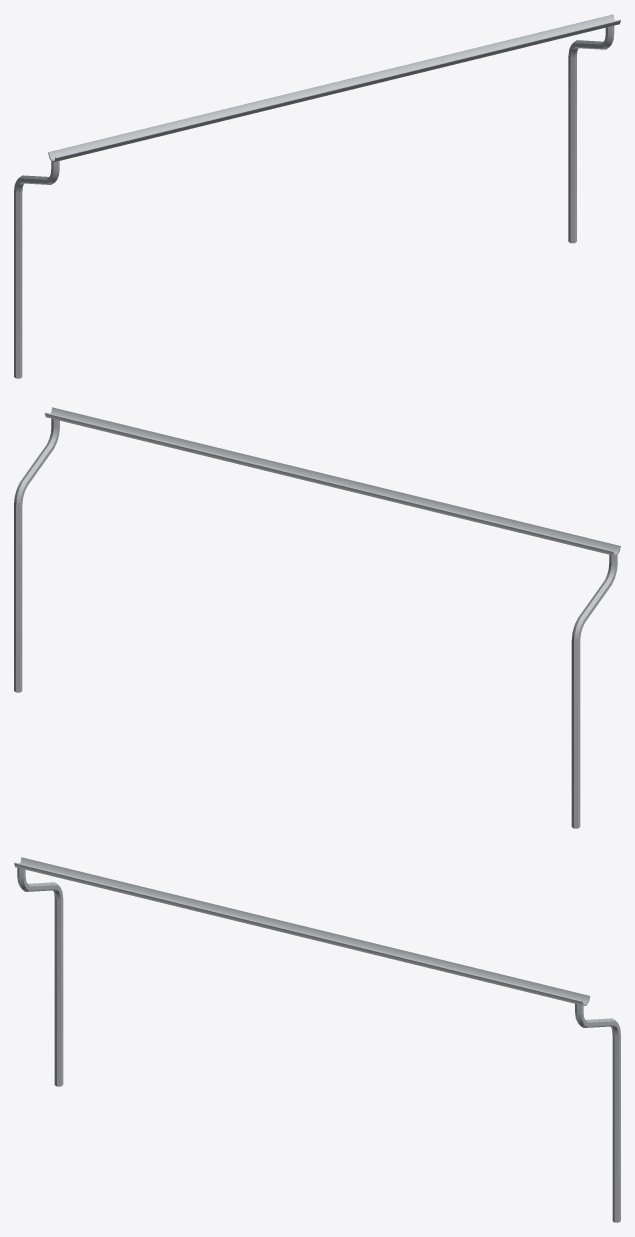
File: SM_waterdrainage_pipe.fbx
The picture shows the model from 3 angles, top to bottom: view 1: azimuth 30°, elevation 25°; view 2: azimuth 150°, elevation 25°; view 3: azimuth 330°, elevation 25°; orthographic projection.
Visible parts, largest first — view 1: Object044; view 2: Object044; view 3: Object044.
Part boxes in pixels (bbox=[...]): Object044: bbox=[14, 14, 620, 378]; Object044: bbox=[14, 407, 620, 828]; Object044: bbox=[14, 857, 620, 1222].
Bounding box in the file's own units: 333 × 44.41 × 141.
